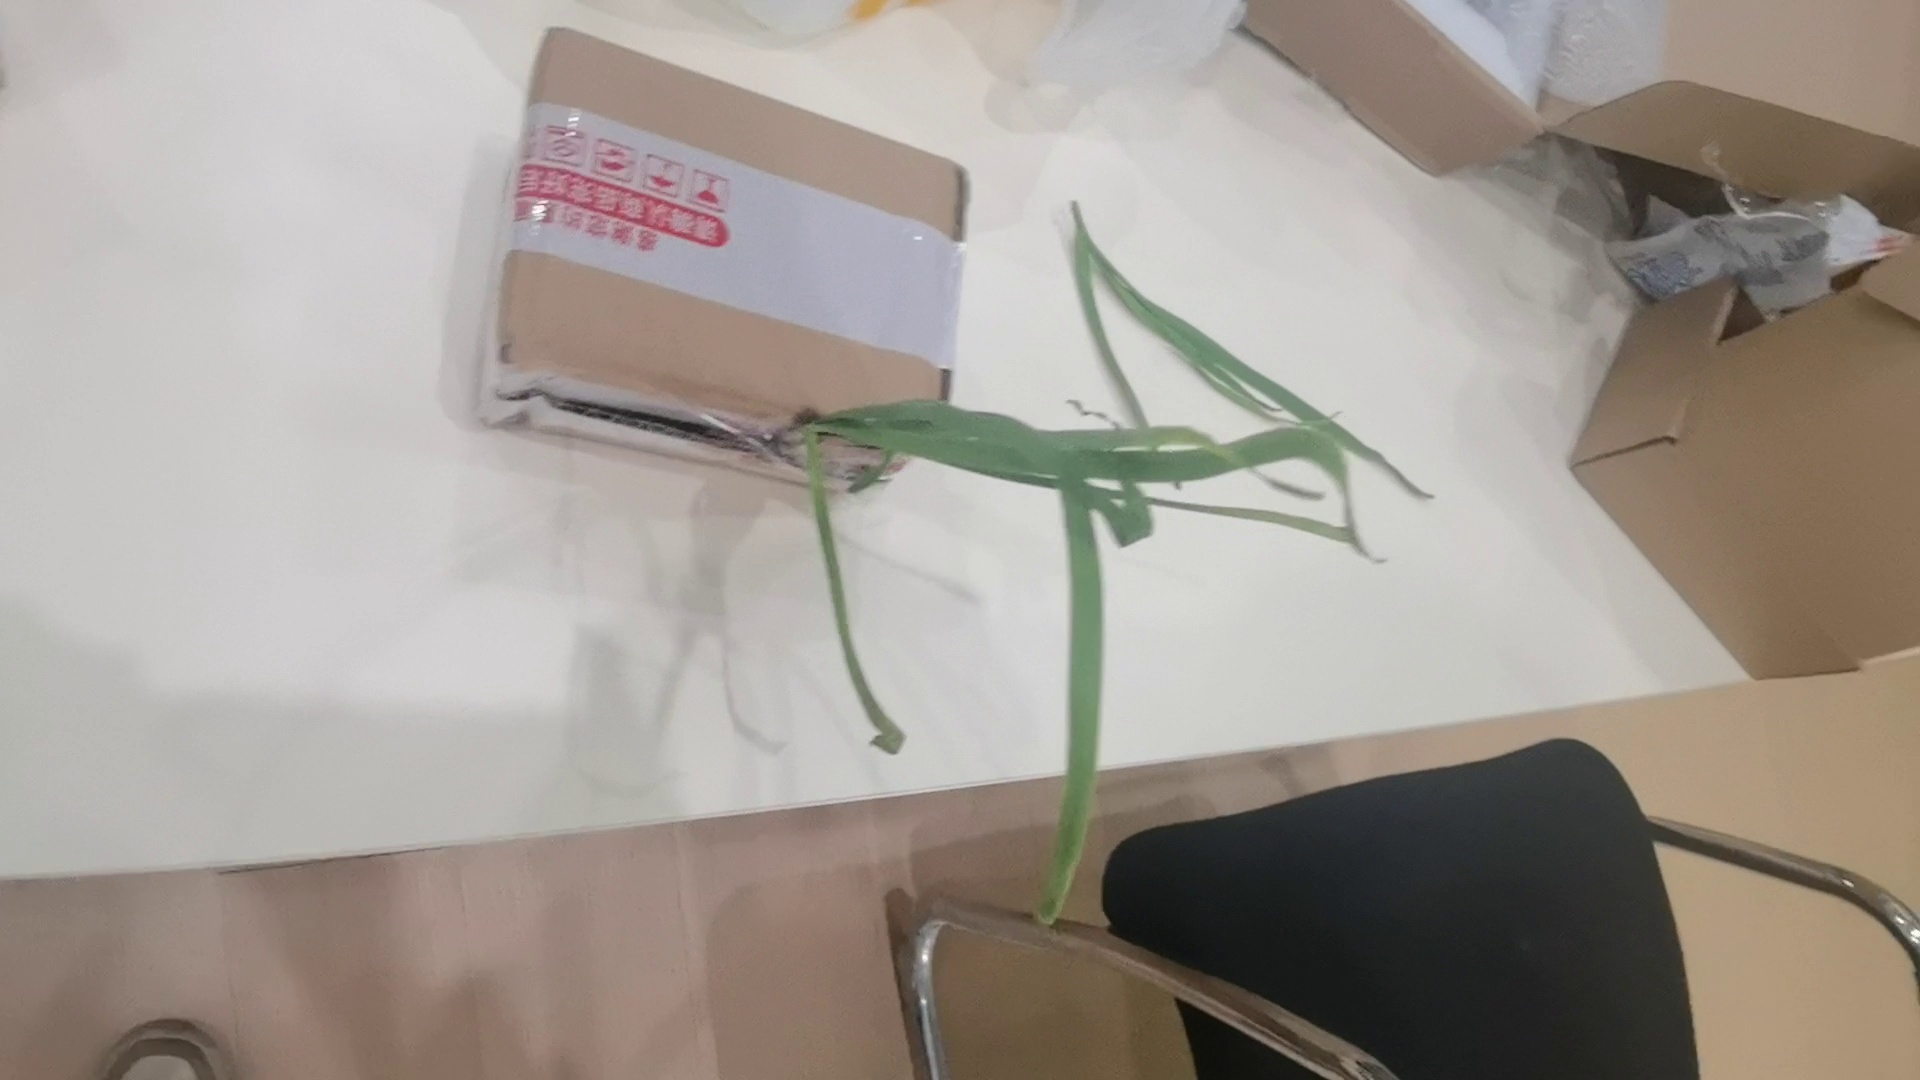chives: (791, 386, 1538, 977), (1065, 194, 1487, 406)
